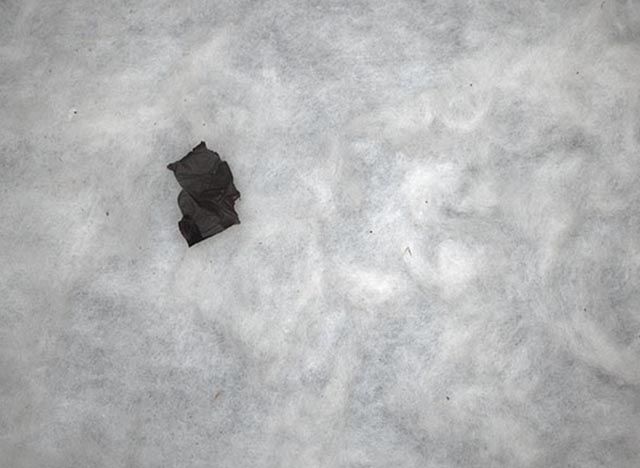plastic film: (167, 140, 240, 247)
